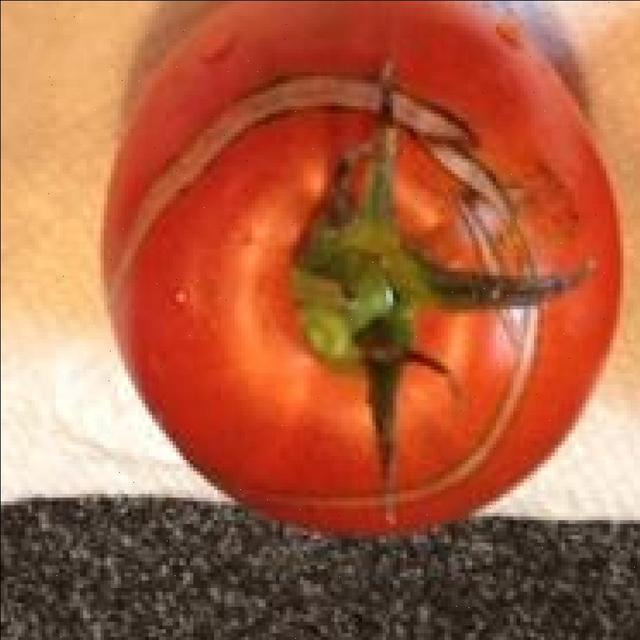Cracking Fruit: (68, 54, 362, 344)
